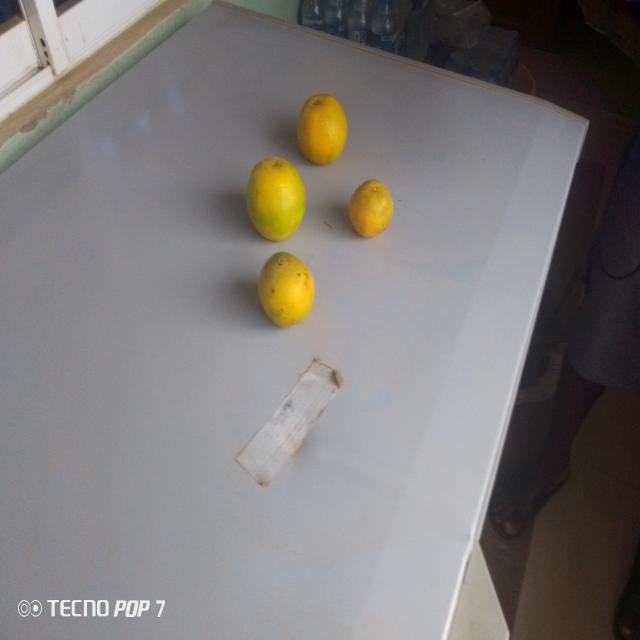agrume: (242, 151, 307, 241), (252, 246, 321, 329), (285, 92, 353, 168), (336, 172, 397, 236)
